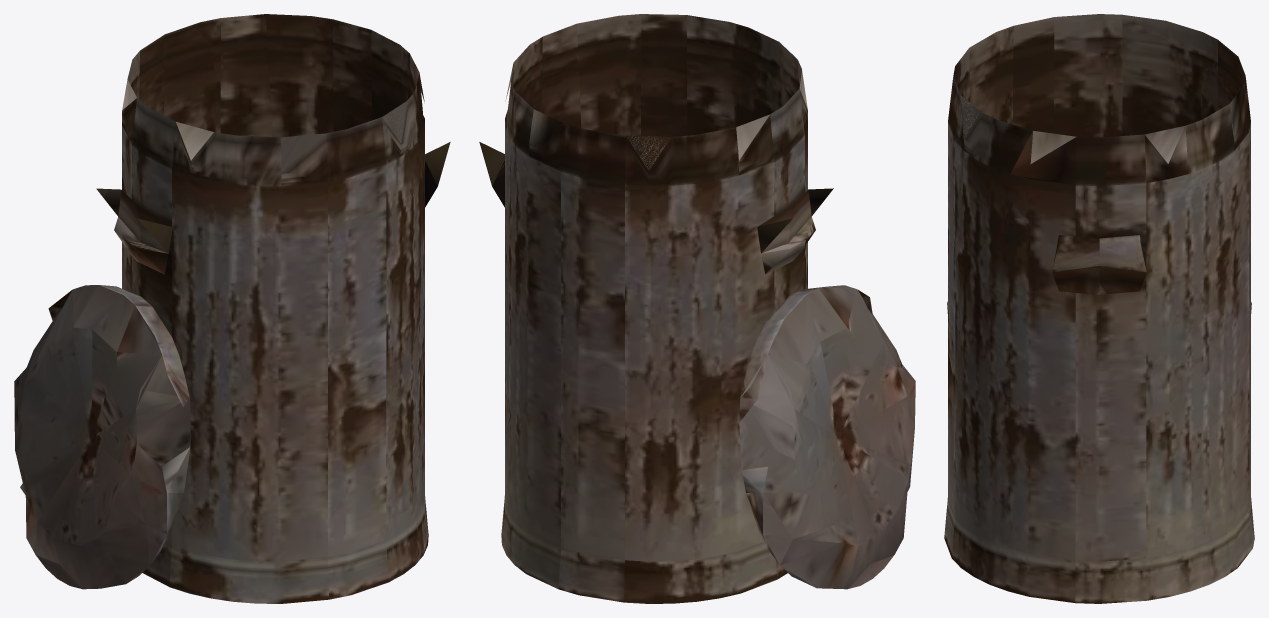
The model's file is bin.glb.
3 renders of one model, left to right at view 1: azimuth 30°, elevation 25°; view 2: azimuth 150°, elevation 25°; view 3: azimuth 270°, elevation 25°, orthographic.
Visible parts, largest first — view 1: bin; view 2: bin; view 3: bin.
Part boxes in pixels (left/top/right/bottom): bin: left=14, top=14, right=450, bottom=603; bin: left=479, top=14, right=915, bottom=603; bin: left=944, top=14, right=1254, bottom=603.
Size of the model in its own units: 0.7842 by 0.92 by 0.5598.
Materials: 1 (1 with a texture image).
